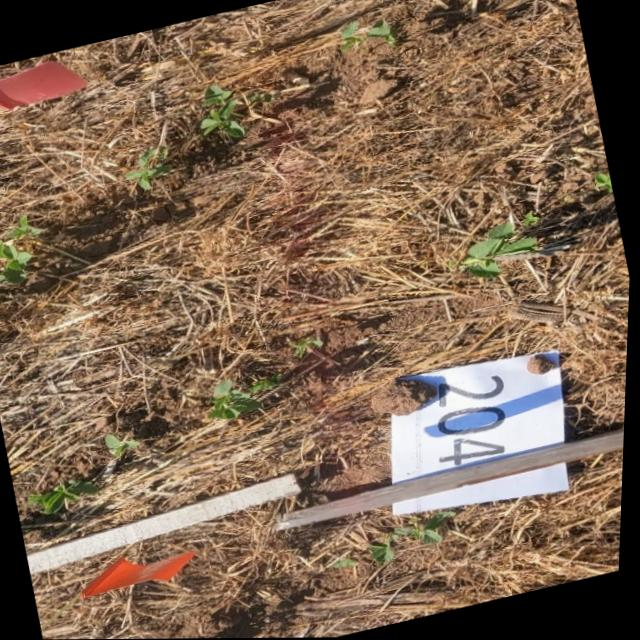soy_plant: (373, 513, 458, 565), (464, 225, 538, 277), (212, 375, 282, 420), (0, 216, 41, 283), (30, 479, 101, 514), (200, 85, 245, 138), (211, 379, 264, 420), (125, 146, 170, 189), (340, 20, 396, 52), (106, 434, 142, 458), (290, 337, 325, 359), (595, 173, 614, 193), (337, 558, 362, 568), (523, 212, 540, 226)
